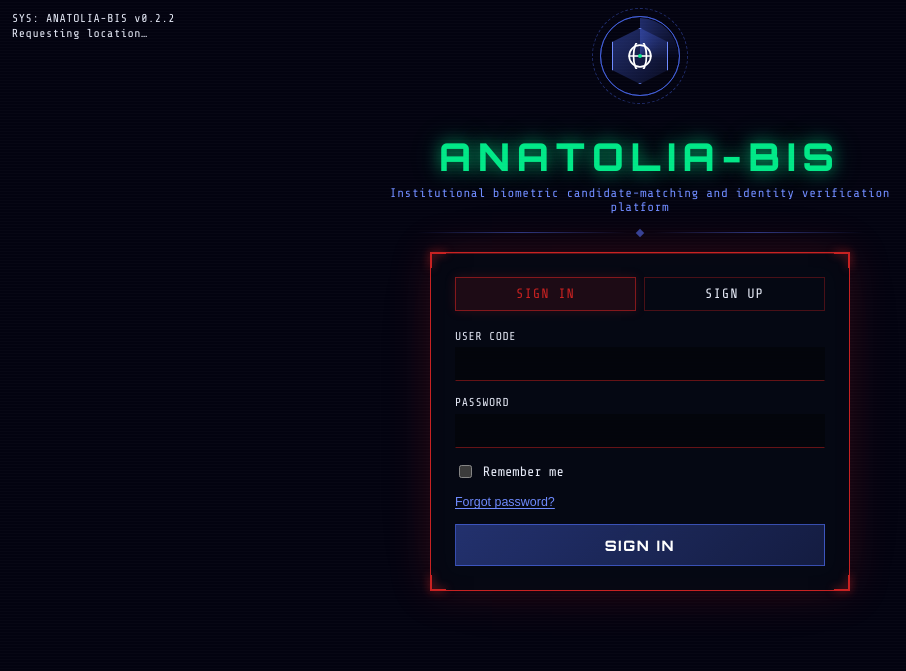
Test: LoginPage › shows a translated error message when login fails
Type "OPERATOR1" into the field labelled "User code" at (640, 364), box [455,347,825,381]
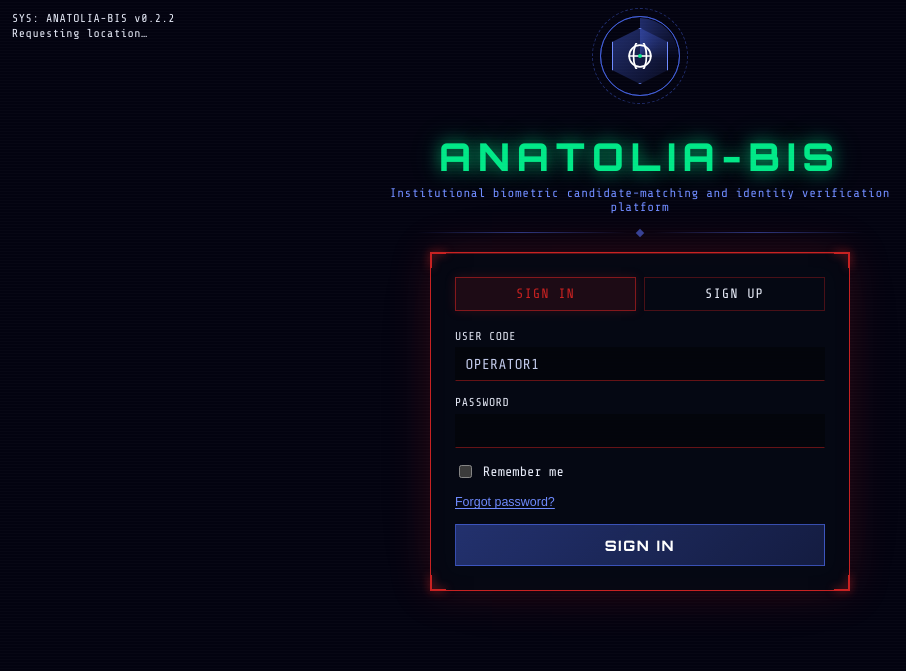
Type "WrongPassword1!" into the password field labelled "Password" at (640, 431), box [455,414,825,448]
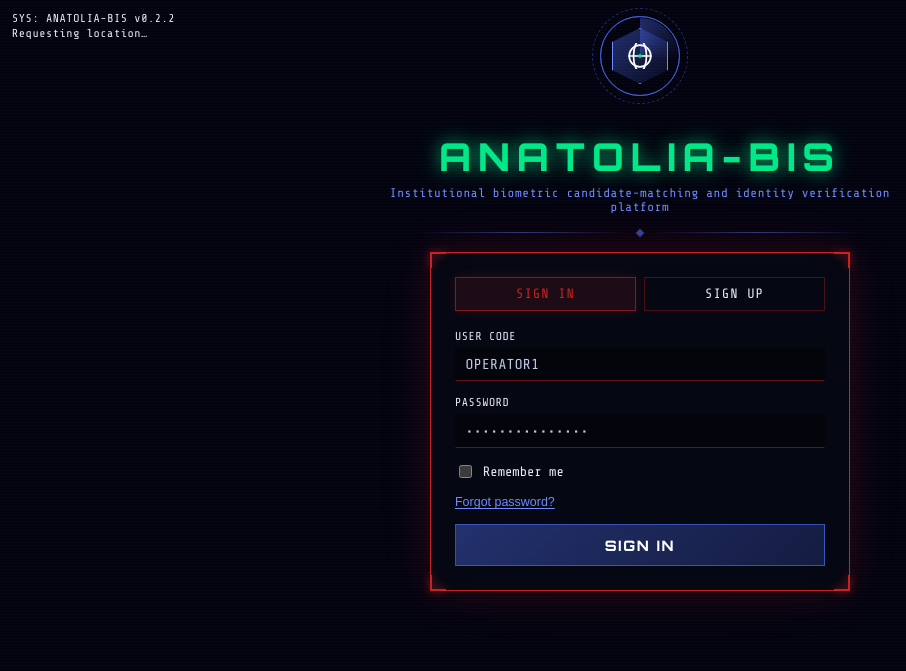
Submit the form with class "auth-panel", box [430,252,850,591]
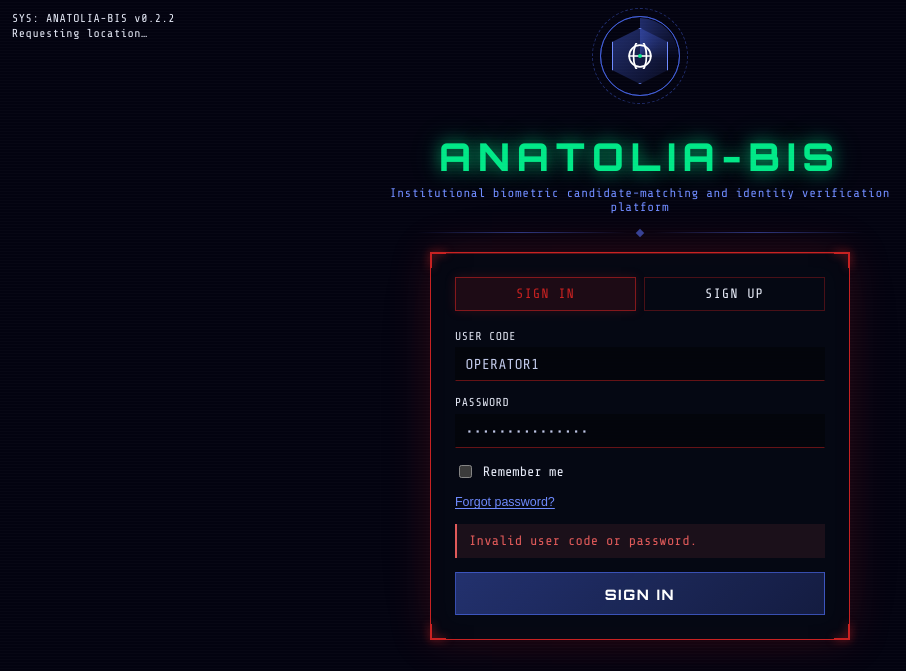
Expected: the text "Invalid user code or password." is shown, [455,524,825,558]
